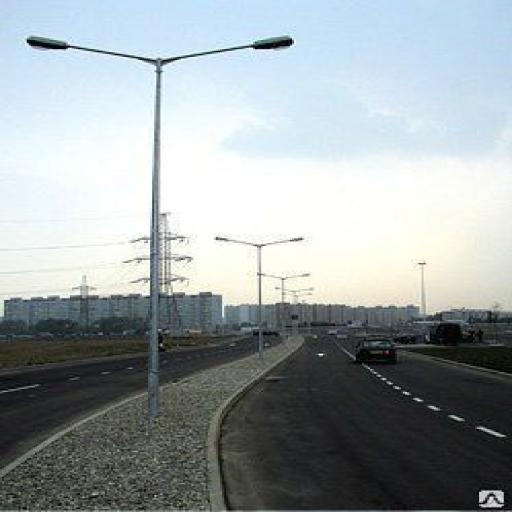Light-pole: (36, 18, 290, 430), (216, 225, 315, 362), (413, 260, 431, 318)
